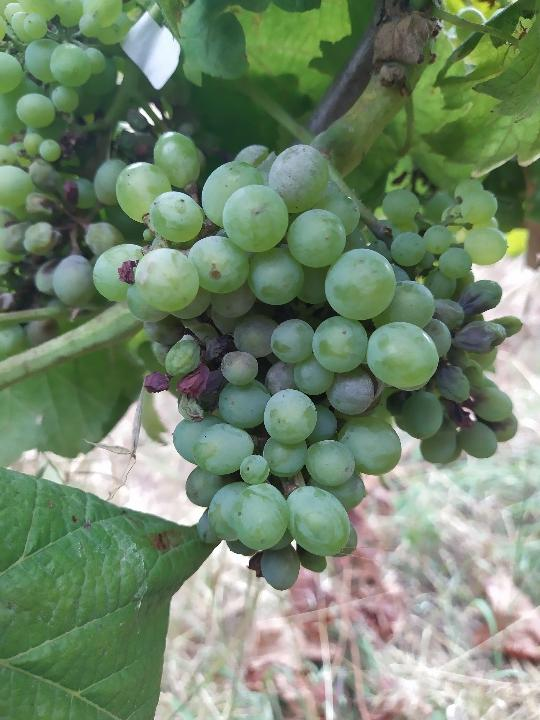grape: (88, 127, 519, 596)
